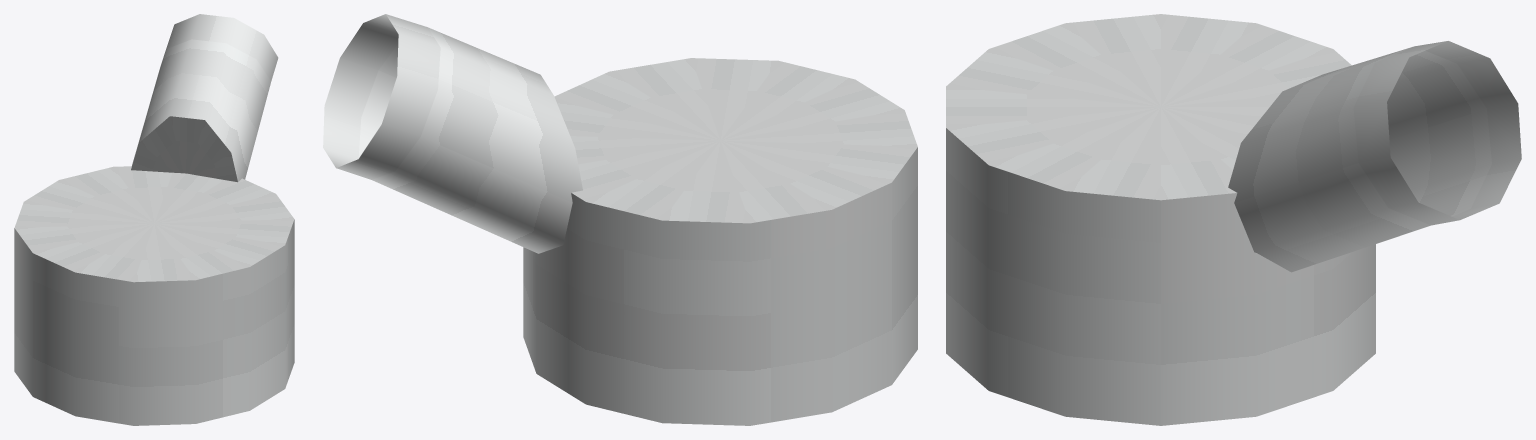
The model's file is nycsignalarm_diagonal4_c1.obj.
The picture shows the model from 3 angles, left to right: view 1: azimuth 30°, elevation 25°; view 2: azimuth 150°, elevation 25°; view 3: azimuth 270°, elevation 25°; orthographic projection. The views are drawn at different scales.
Parts seen in each view (by area): view 1: nycsignalarm_diagonal4_c1; view 2: nycsignalarm_diagonal4_c1; view 3: nycsignalarm_diagonal4_c1.
Part boxes in pixels (left/top/right/bottom): nycsignalarm_diagonal4_c1: left=14, top=14, right=294, bottom=425; nycsignalarm_diagonal4_c1: left=323, top=14, right=917, bottom=425; nycsignalarm_diagonal4_c1: left=946, top=14, right=1521, bottom=425.
Bounding box in the file's own units: 1.08 × 0.8134 × 1.07.
